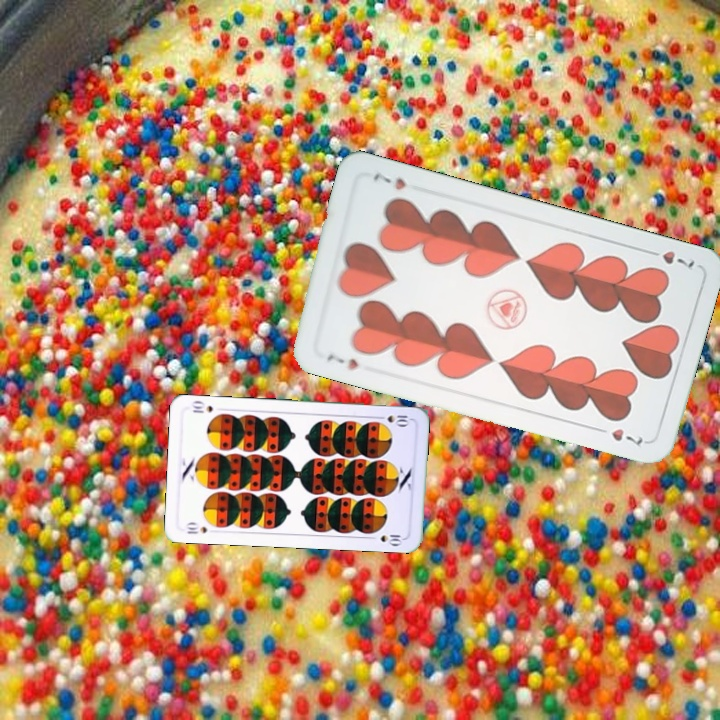H7: (641, 245, 698, 270), (322, 349, 362, 373)
S10: (373, 411, 413, 427), (183, 519, 210, 537)
